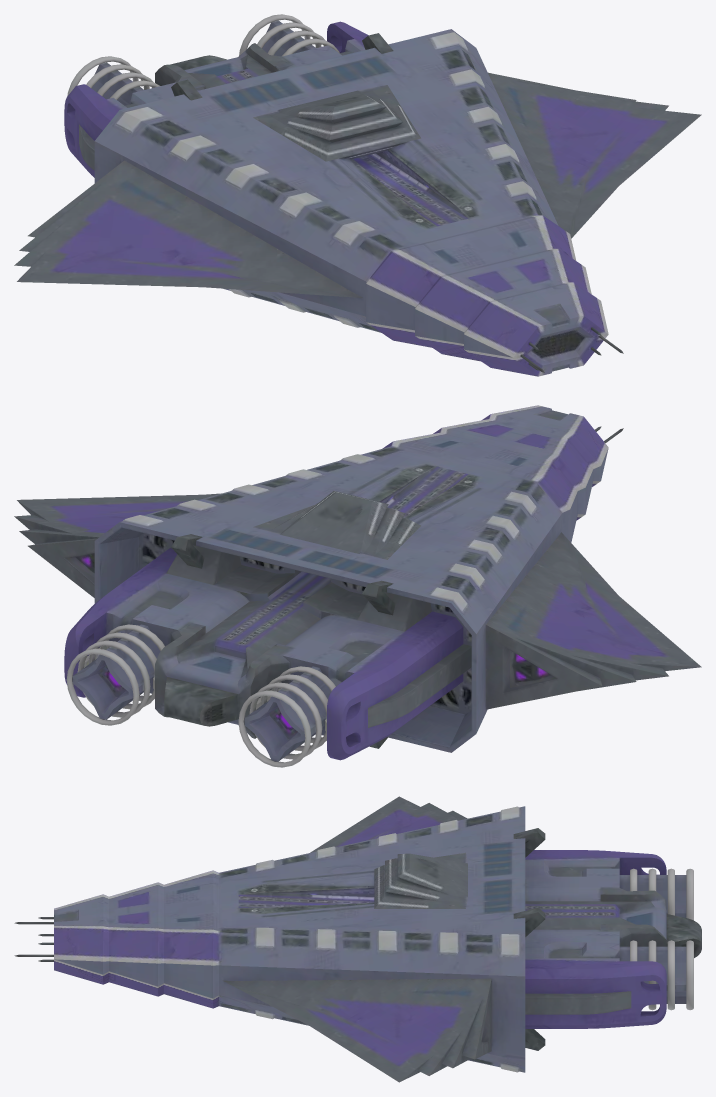
The model's file is hippocrates.gltf.
The picture shows the model from 3 angles, top to bottom: view 1: azimuth 30°, elevation 25°; view 2: azimuth 150°, elevation 25°; view 3: azimuth 270°, elevation 25°; orthographic projection. The views are drawn at different scales.
Parts seen in each view (by area): view 1: base; view 2: base; view 3: base.
Part boxes in pixels (x1,y1,x2,y2): base: [14, 14, 701, 376]; base: [14, 405, 701, 767]; base: [14, 796, 701, 1082].
Size of the model in its own units: 14.37 by 3.65 by 14.6.
Materials: 1 (1 with a texture image).
